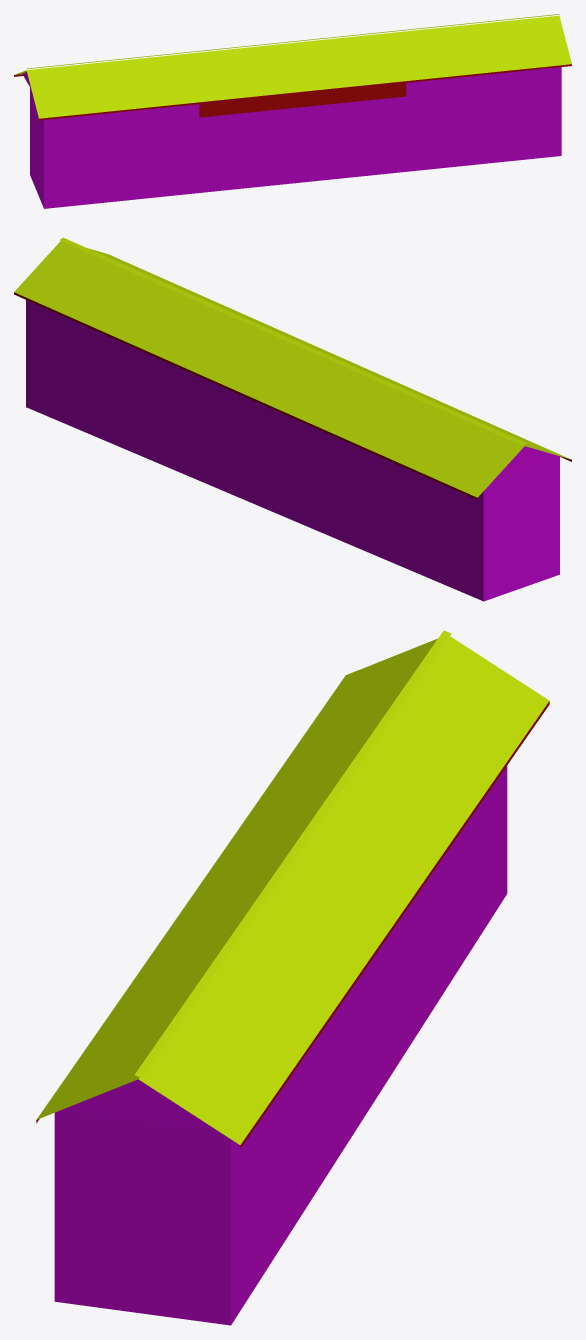
Rendered from ssv_19.glb.
3 views of the same model, one above another, from view 1: azimuth 30°, elevation 25°; view 2: azimuth 150°, elevation 25°; view 3: azimuth 270°, elevation 25° (orthographic). The views are drawn at different scales.
Visible parts, largest first — view 1: ssv_19; view 2: ssv_19; view 3: ssv_19.
Boxes of the visible parts, x1=… form: ssv_19: x1=14, y1=14, x2=571, y2=208; ssv_19: x1=14, y1=237, x2=571, y2=601; ssv_19: x1=36, y1=630, x2=549, y2=1325.
Size of the model in its own units: 32.5 by 7.88 by 15.
